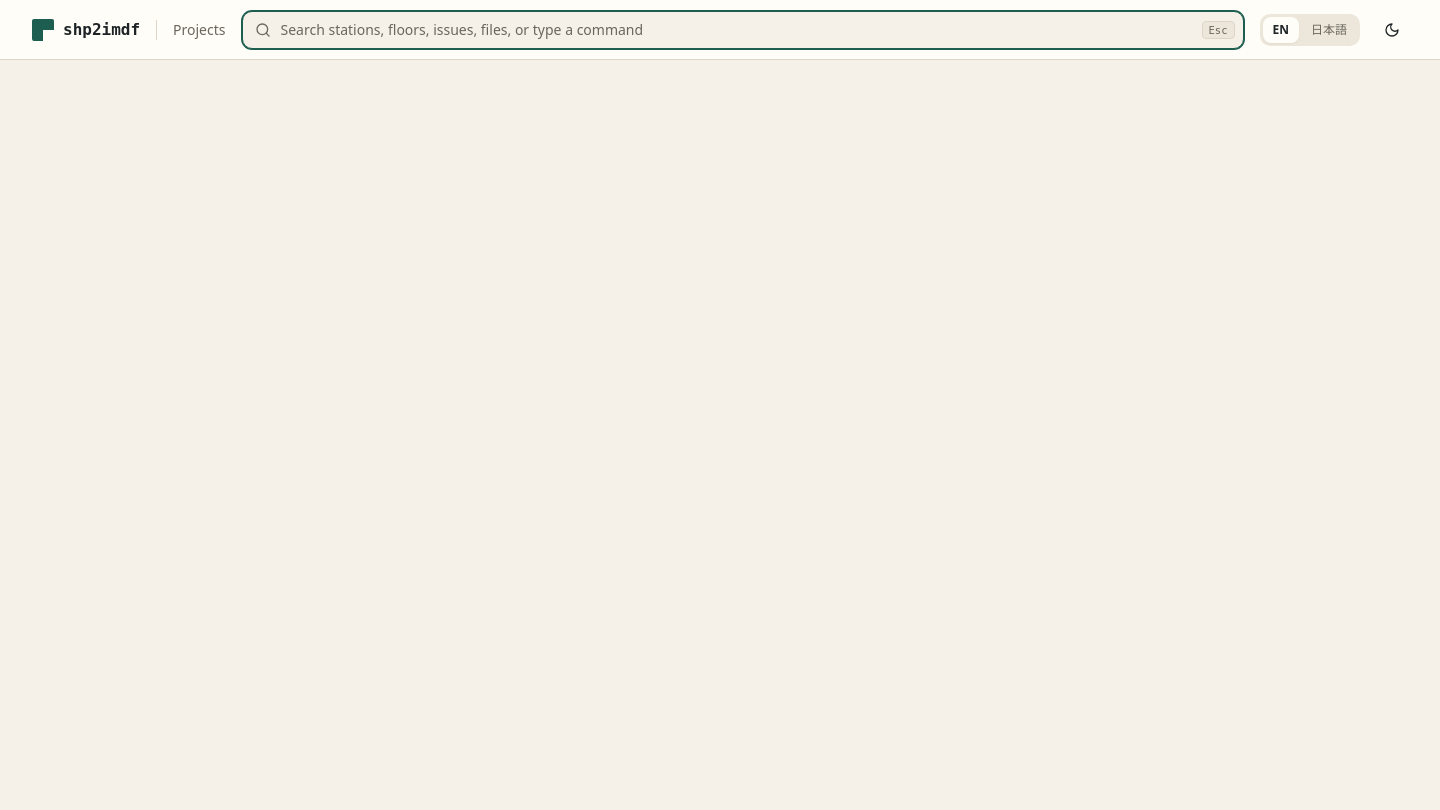
Test: SearchPalette › offers each of two same-named levels as a completion that Tab fills in
Type "assign 屋" into the dropdown at (736, 30), box [280,12,1192,48]
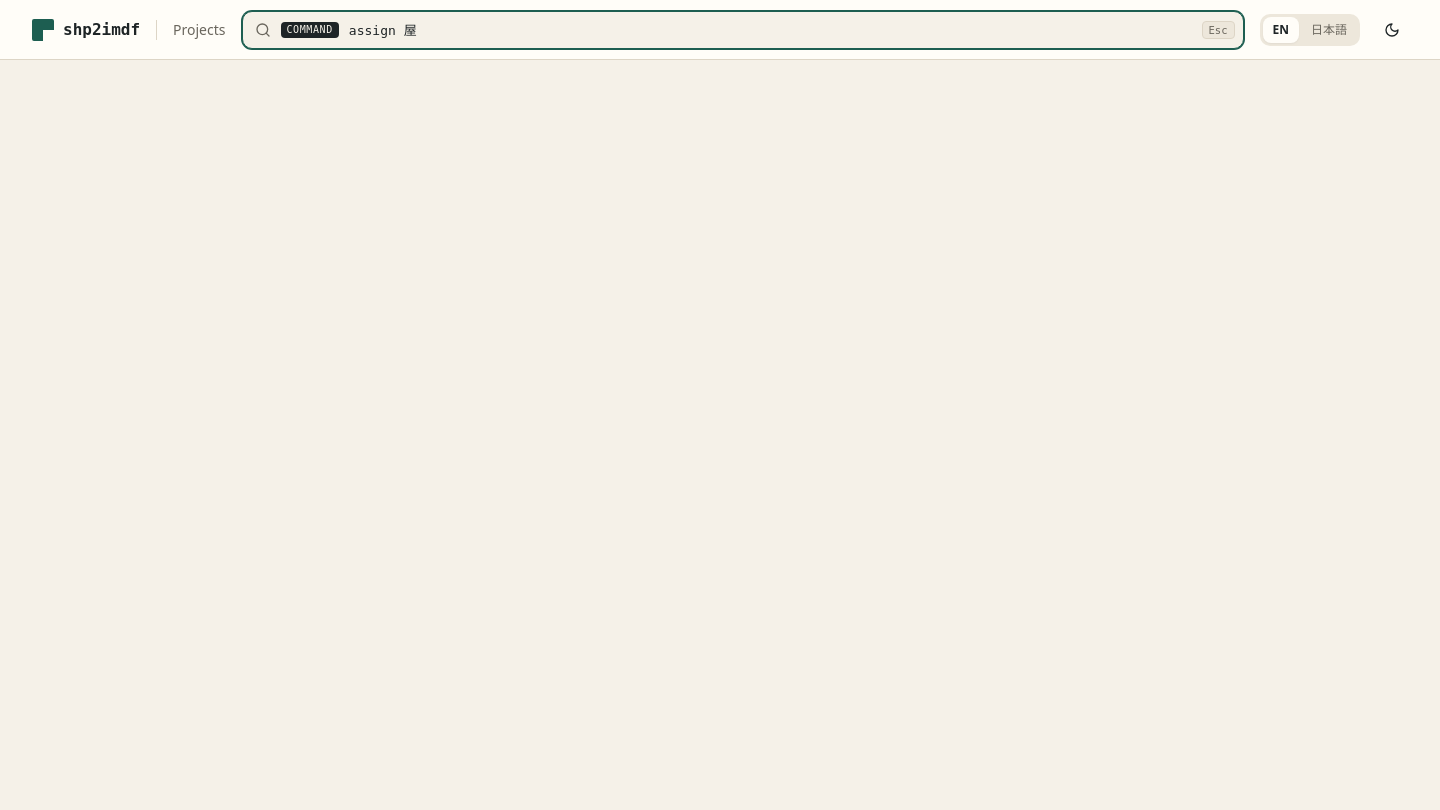
Press Tab in the dropdown, box [349,12,1192,48]
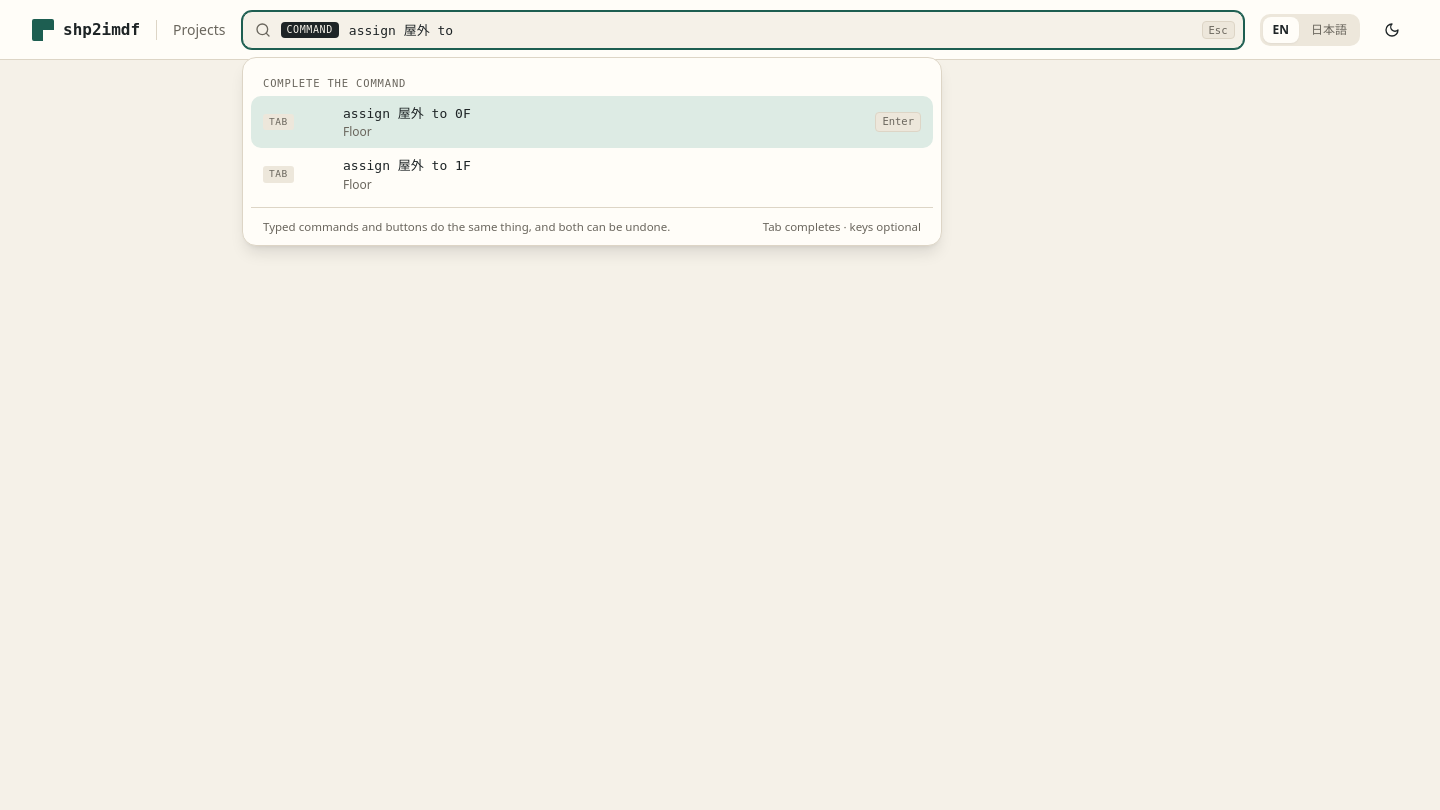
Result: the dropdown holds "assign 屋外 to " at [349,12,1192,48]
